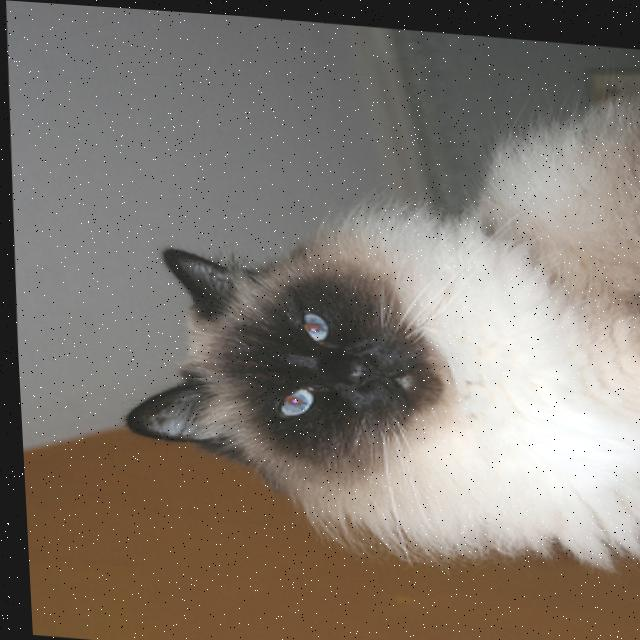Birman: (95, 30, 640, 574)
